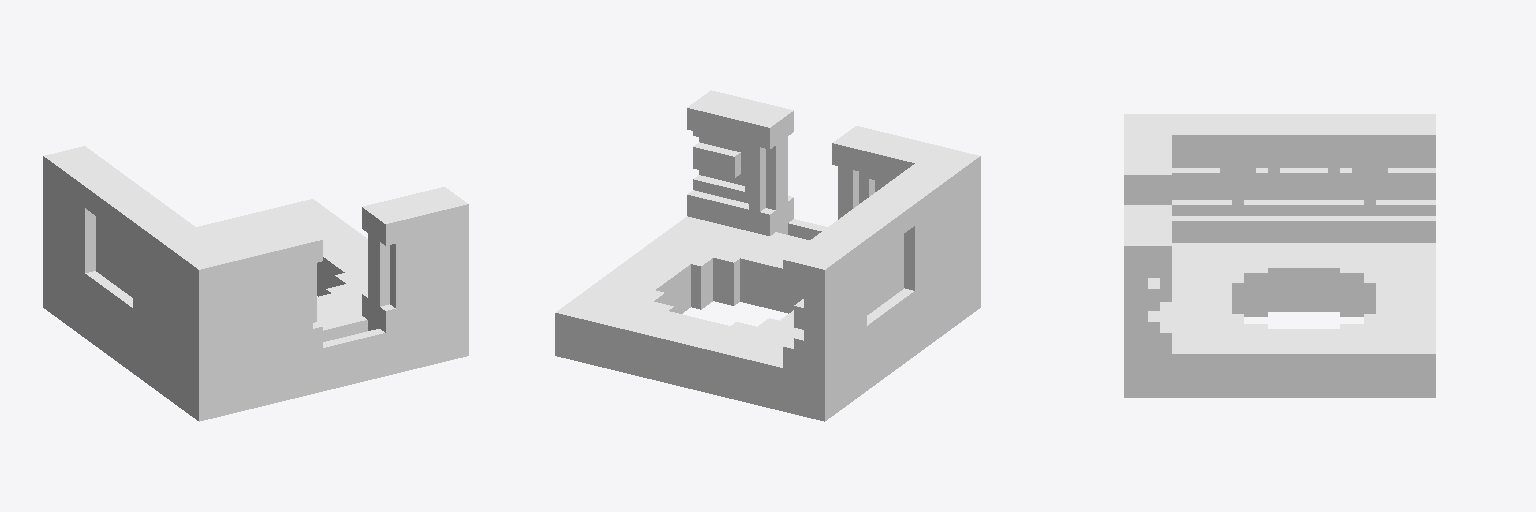
The model's file is Room_Special_R.obj.
3 renders of one model, left to right at view 1: azimuth 30°, elevation 25°; view 2: azimuth 150°, elevation 25°; view 3: azimuth 270°, elevation 25°, orthographic.
Parts seen in each view (by area): view 1: Room_Special_R; view 2: Room_Special_R; view 3: Room_Special_R.
Part boxes in pixels (x1,y1,x2,y2): Room_Special_R: (43, 146, 468, 421); Room_Special_R: (555, 90, 980, 421); Room_Special_R: (1124, 114, 1435, 397).
Size of the model in its own units: 26 by 14 by 26.